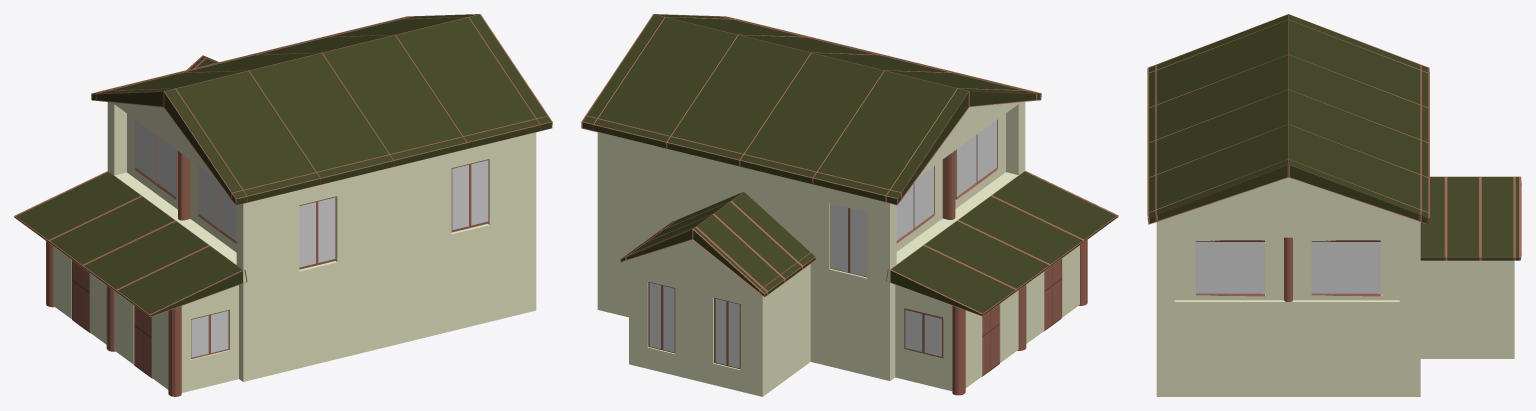
The model's file is houusseueueueueu.fbx.
The picture shows the model from 3 angles, left to right: view 1: azimuth 30°, elevation 25°; view 2: azimuth 150°, elevation 25°; view 3: azimuth 270°, elevation 25°; orthographic projection. The views are drawn at different scales.
Visible parts, largest first — view 1: Cube.016, Cube.012, Cube.003, Cube.026, Cube.014, Cube.005, Cube.040, Cube.033; view 2: Cube.016, Cube.012, Cube.003, Cube.026, Cube.013, Cube.014, Cube.005, Cube.033, Cube.040; view 3: Cube.016, Cube.012, Cube.013, Cube.026, Cube.014, Cube.033, Cube.005.
Boxes of the visible parts, x1,y1,x2,y2 form: Cube.016: (53,102,536,392); Cube.012: (92,14,551,204); Cube.003: (15,172,242,316); Cube.026: (135,120,488,357); Cube.014: (14,14,552,317); Cube.005: (46,151,190,396); Cube.040: (72,260,151,376); Cube.033: (135,119,488,358); Cube.016: (597,102,1079,396); Cube.012: (582,14,1040,204); Cube.003: (890,171,1116,315); Cube.026: (649,120,996,368); Cube.013: (621,192,815,296); Cube.014: (581,14,1118,316); Cube.005: (942,151,1087,395); Cube.033: (648,119,997,369); Cube.040: (982,259,1061,374); Cube.016: (1156,177,1514,396); Cube.012: (1149,14,1428,224); Cube.013: (1420,177,1518,260); Cube.026: (1195,241,1380,293); Cube.014: (1147,14,1521,260); Cube.033: (1195,240,1380,296); Cube.005: (1284,237,1292,301).
Size of the model in its own units: 1260 by 741 by 1051.
